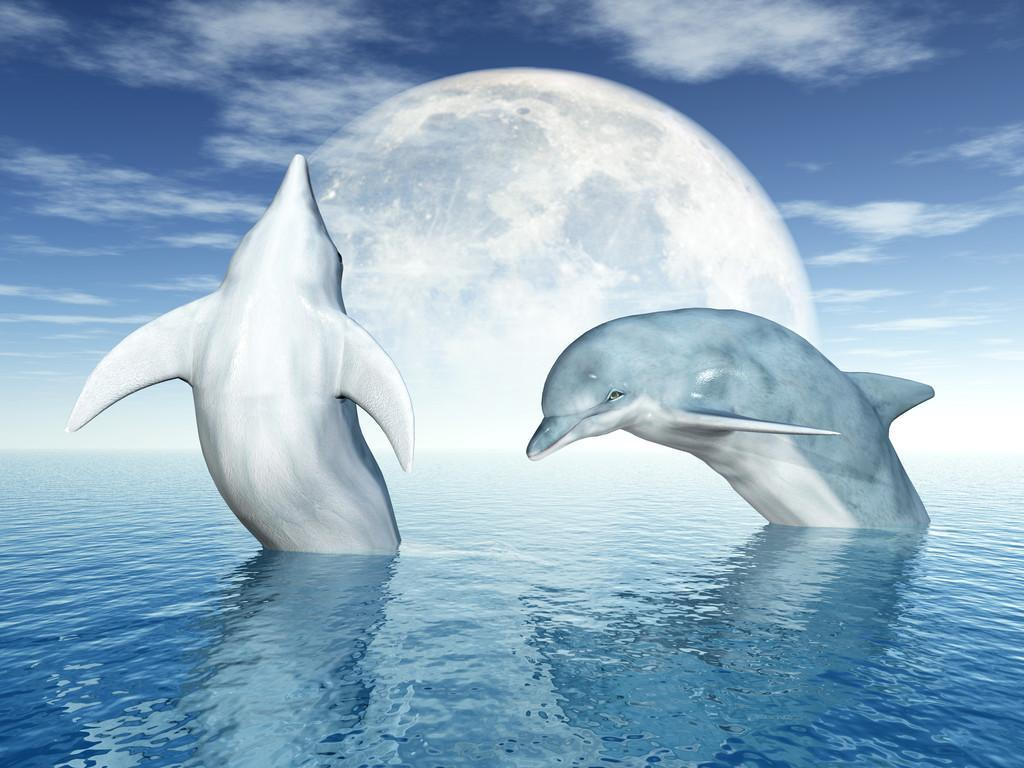fish: (61, 152, 422, 558), (523, 304, 935, 535)
